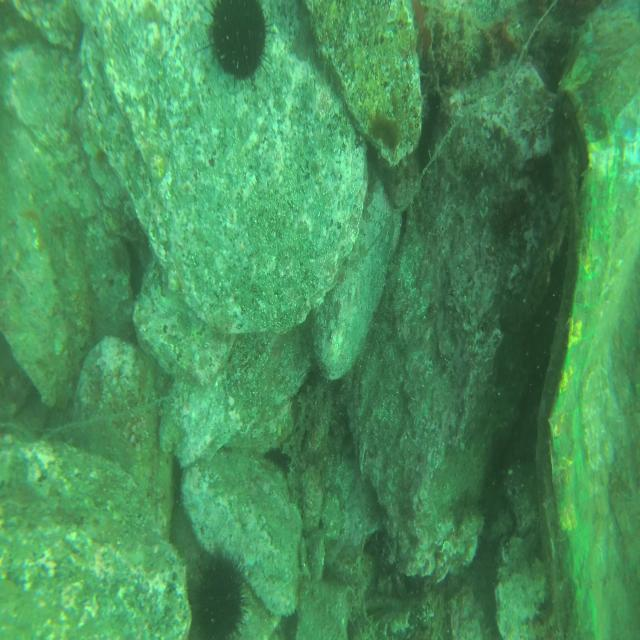echinus: (200, 2, 278, 99), (188, 549, 251, 639)
